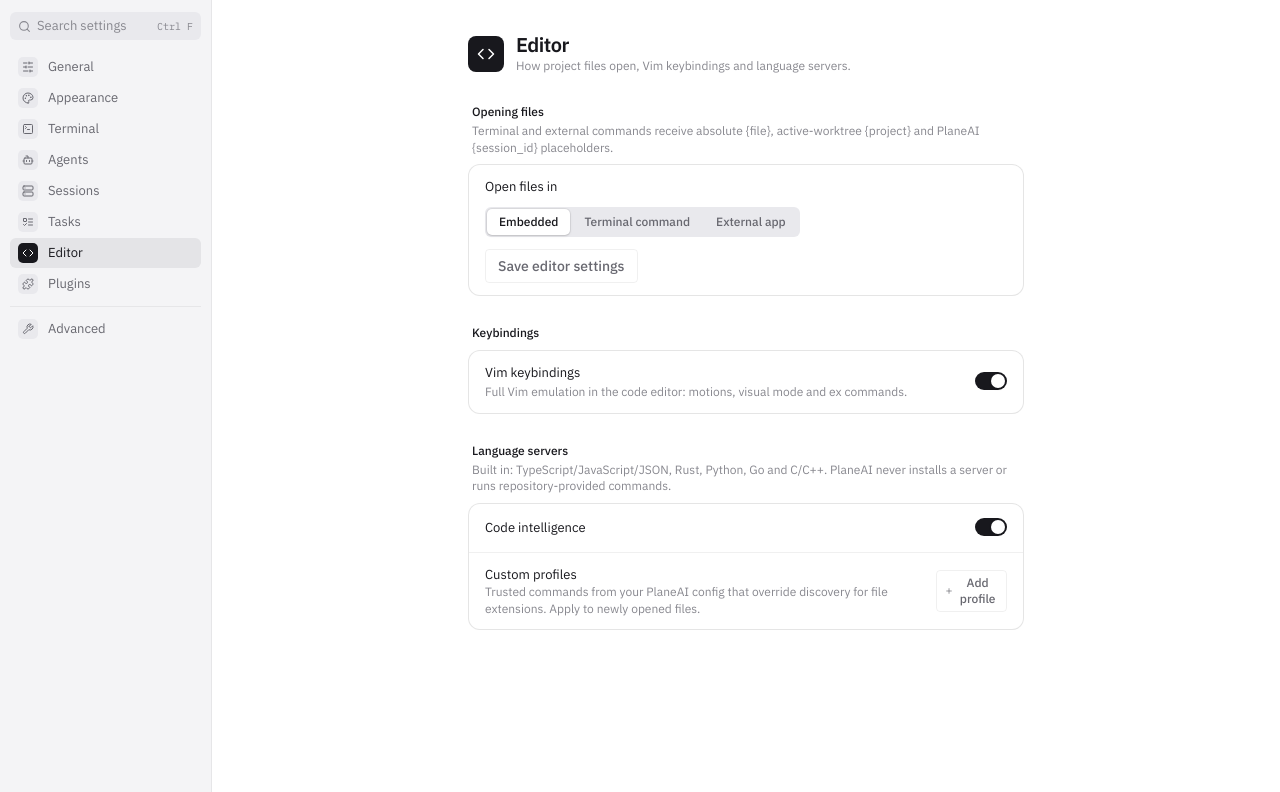
Test: editor › does not save an incomplete terminal editor configuration
Step 1. Click the radio button labelled "Terminal command" → click(637, 221), box [584,214,690,228]
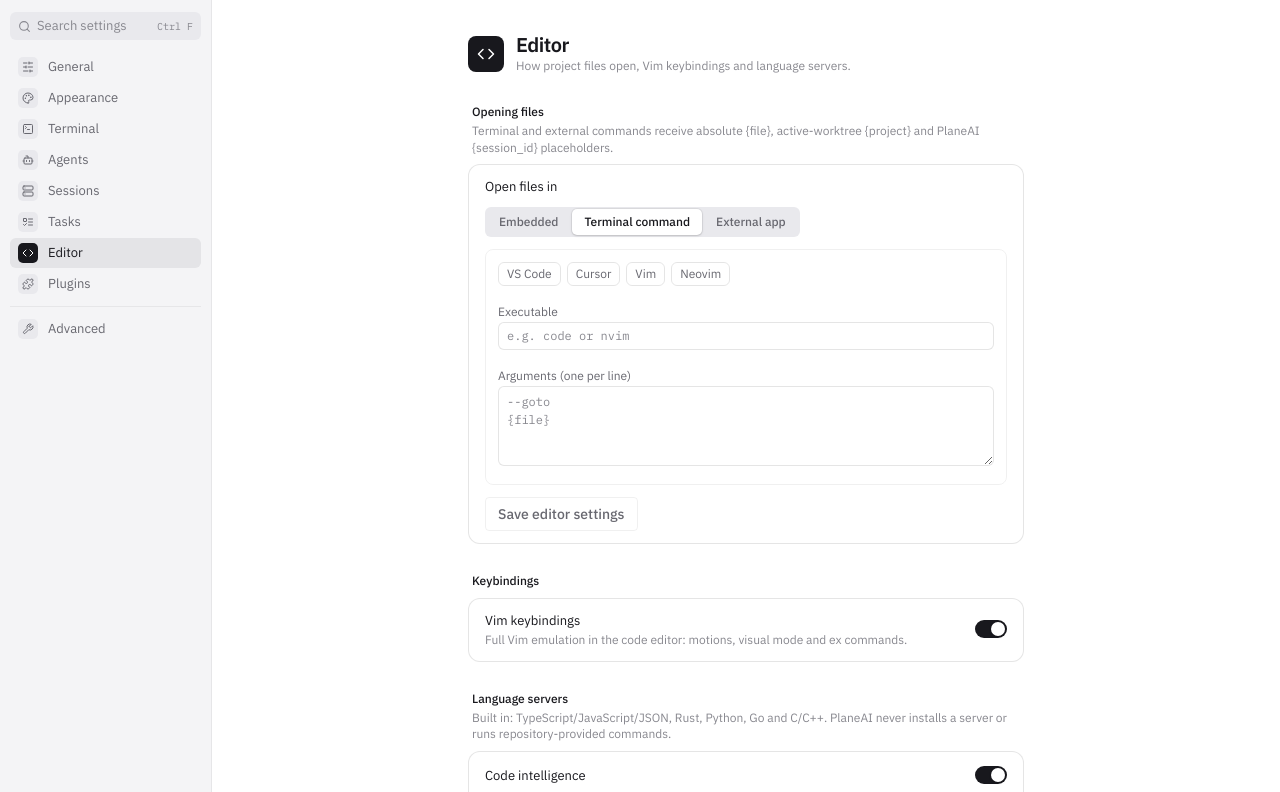
Step 2. Click the button "Save editor settings" → click(561, 514), box [485,496,638,530]
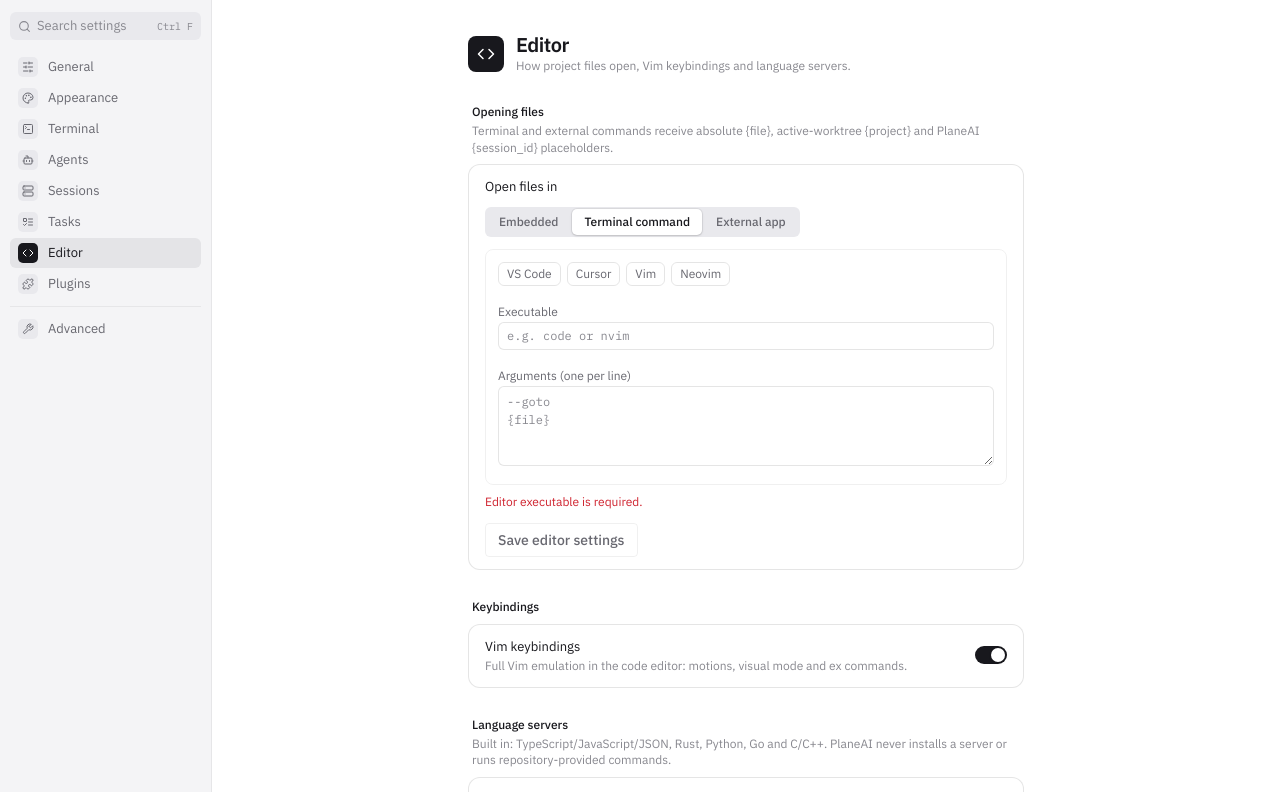
Expected: the text "Editor executable is required." is shown, [485,494,643,508]
